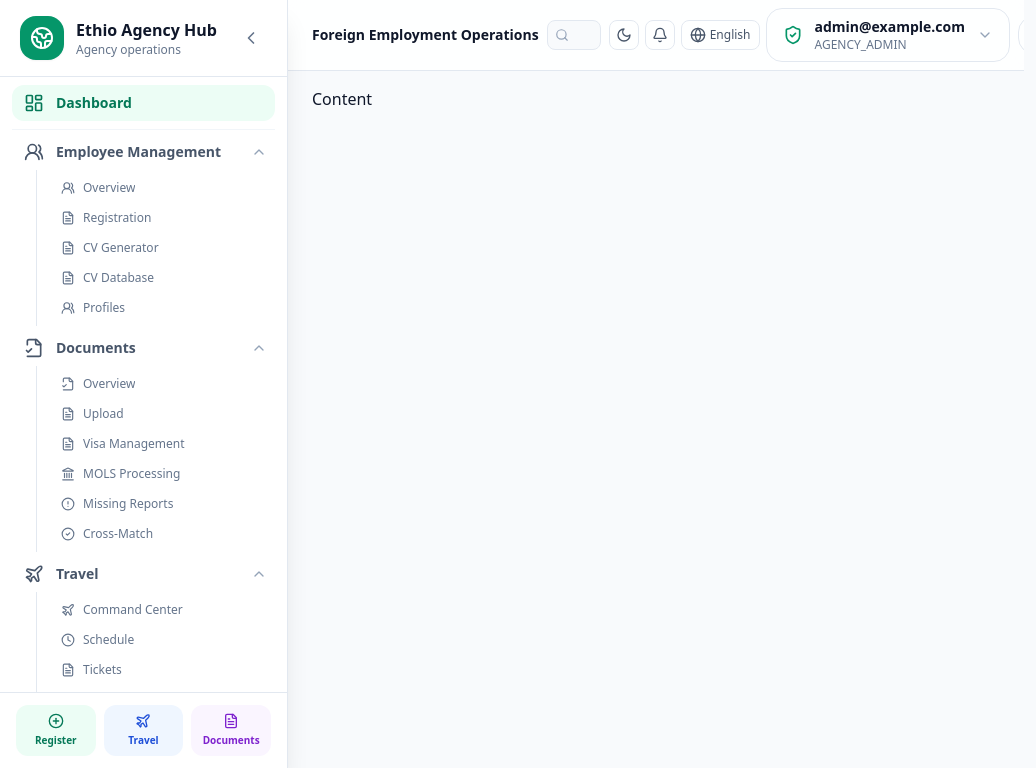
Test: AppShell › shows "No results found" for unmatched search queries
The image size is (1036, 768).
Type "xyznonexistent" into the field with placeholder "Search" at (574, 35), box [547,20,601,50]
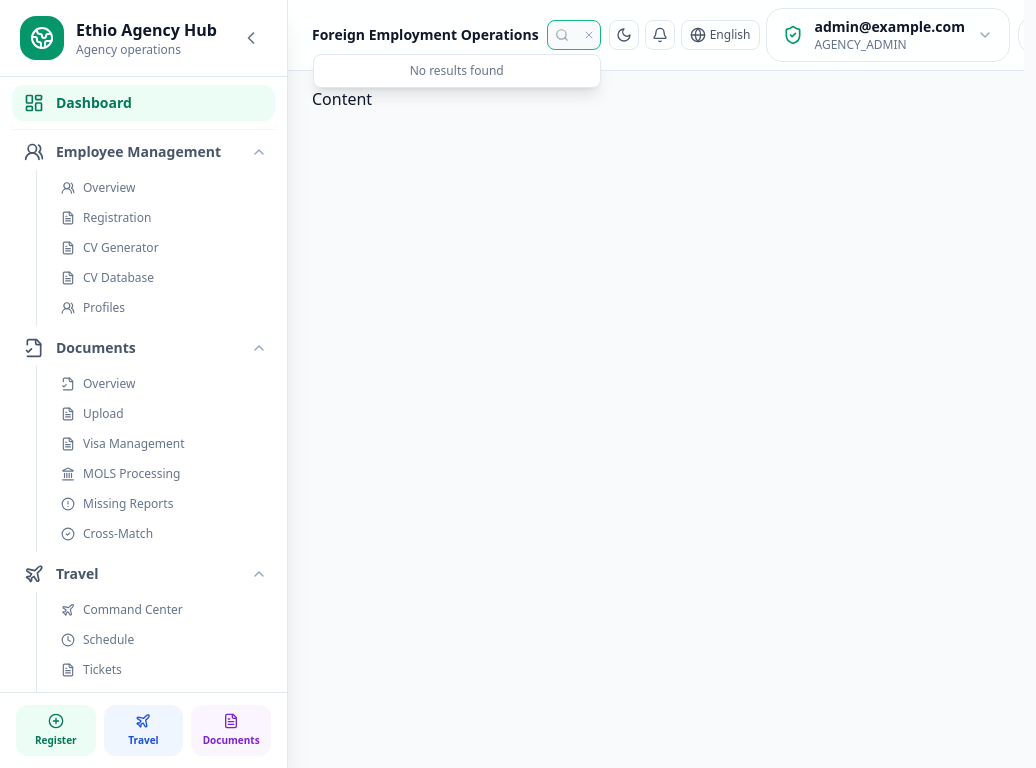
Expected: the text "No results found" is shown, [410,62,504,79]
